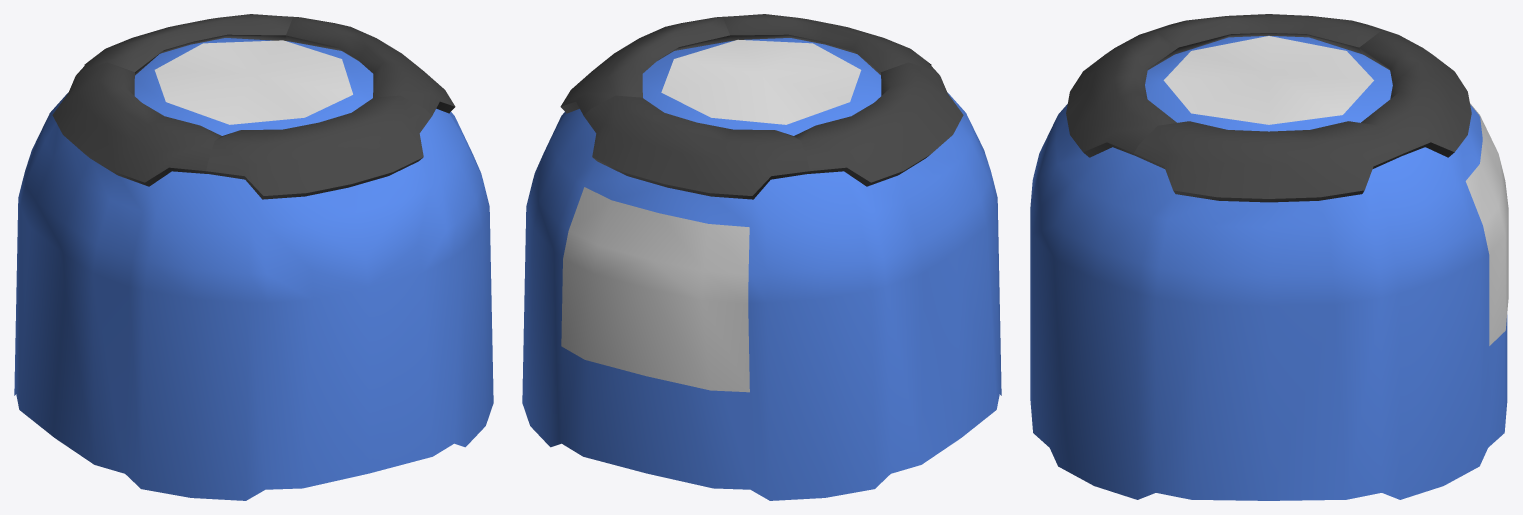
Rendered from obj_characterobject_glowgorppackage_top.fbx.
3 views of the same model, side by side, from view 1: azimuth 30°, elevation 25°; view 2: azimuth 150°, elevation 25°; view 3: azimuth 270°, elevation 25° (orthographic). The views are drawn at different scales.
Visible parts, largest first — view 1: obj_characterobject_glowgorppackage_top; view 2: obj_characterobject_glowgorppackage_top; view 3: obj_characterobject_glowgorppackage_top.
Boxes of the visible parts, box(x1,y1,x2,y2) form: obj_characterobject_glowgorppackage_top: box(14, 14, 493, 500); obj_characterobject_glowgorppackage_top: box(522, 14, 1001, 500); obj_characterobject_glowgorppackage_top: box(1030, 14, 1508, 500).
Size of the model in its own units: 3.05 by 2.38 by 3.05.
